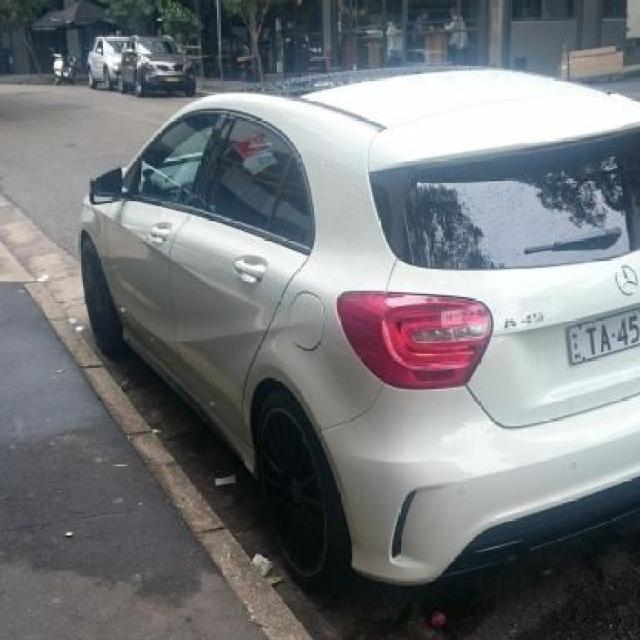License-Plates: (562, 304, 640, 371)
